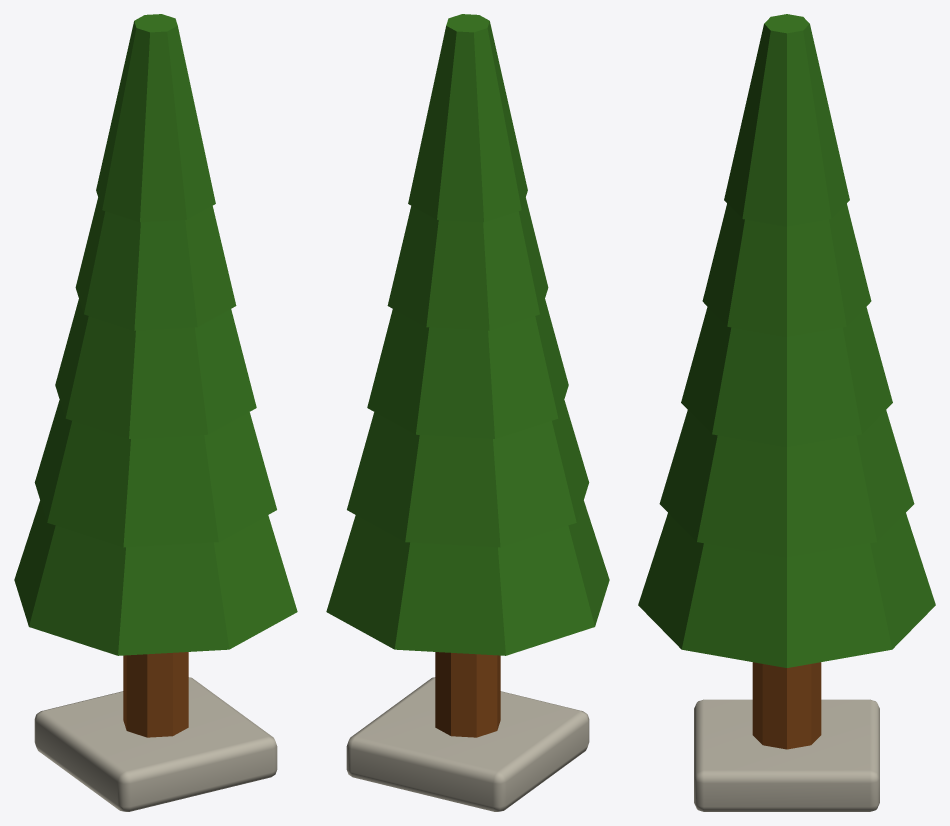
Rendered from 59_cypress.glb.
3 views of the same model, side by side, from view 1: azimuth 30°, elevation 25°; view 2: azimuth 150°, elevation 25°; view 3: azimuth 270°, elevation 25° (orthographic).
Parts seen in each view (by area): view 1: Tiered cypress, Tiered cypress.001, Tiered cypress.002, Cypress root, Tiered cypress.004, Tiered cypress.003, Cypress trunk; view 2: Tiered cypress, Tiered cypress.001, Tiered cypress.002, Cypress root, Tiered cypress.004, Tiered cypress.003, Cypress trunk; view 3: Tiered cypress, Tiered cypress.001, Tiered cypress.002, Tiered cypress.004, Cypress root, Tiered cypress.003, Cypress trunk.
Part boxes in pixels (x1,y1,x2,y2): Tiered cypress: [14, 500, 297, 655]; Tiered cypress.001: [34, 400, 276, 547]; Tiered cypress.002: [55, 299, 256, 438]; Cypress root: [34, 677, 277, 811]; Tiered cypress.004: [96, 14, 215, 222]; Tiered cypress.003: [75, 197, 236, 330]; Cypress trunk: [123, 652, 188, 737]; Tiered cypress: [326, 500, 609, 655]; Tiered cypress.001: [347, 400, 589, 547]; Tiered cypress.002: [367, 299, 568, 438]; Cypress root: [346, 677, 589, 811]; Tiered cypress.004: [408, 14, 527, 222]; Tiered cypress.003: [387, 197, 548, 330]; Cypress trunk: [435, 652, 500, 737]; Tiered cypress: [638, 513, 935, 667]; Tiered cypress.001: [659, 410, 914, 557]; Tiered cypress.002: [681, 307, 892, 447]; Tiered cypress.004: [724, 14, 849, 226]; Cypress root: [694, 699, 879, 811]; Tiered cypress.003: [702, 203, 871, 336]; Cypress trunk: [752, 662, 821, 749].
Bounding box in the file's own units: 1.04 × 2.9 × 1.04.
